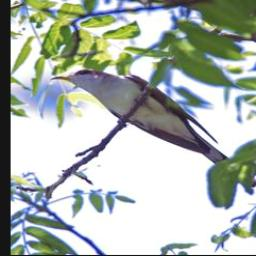Cuckoo: (51, 67, 256, 188)
